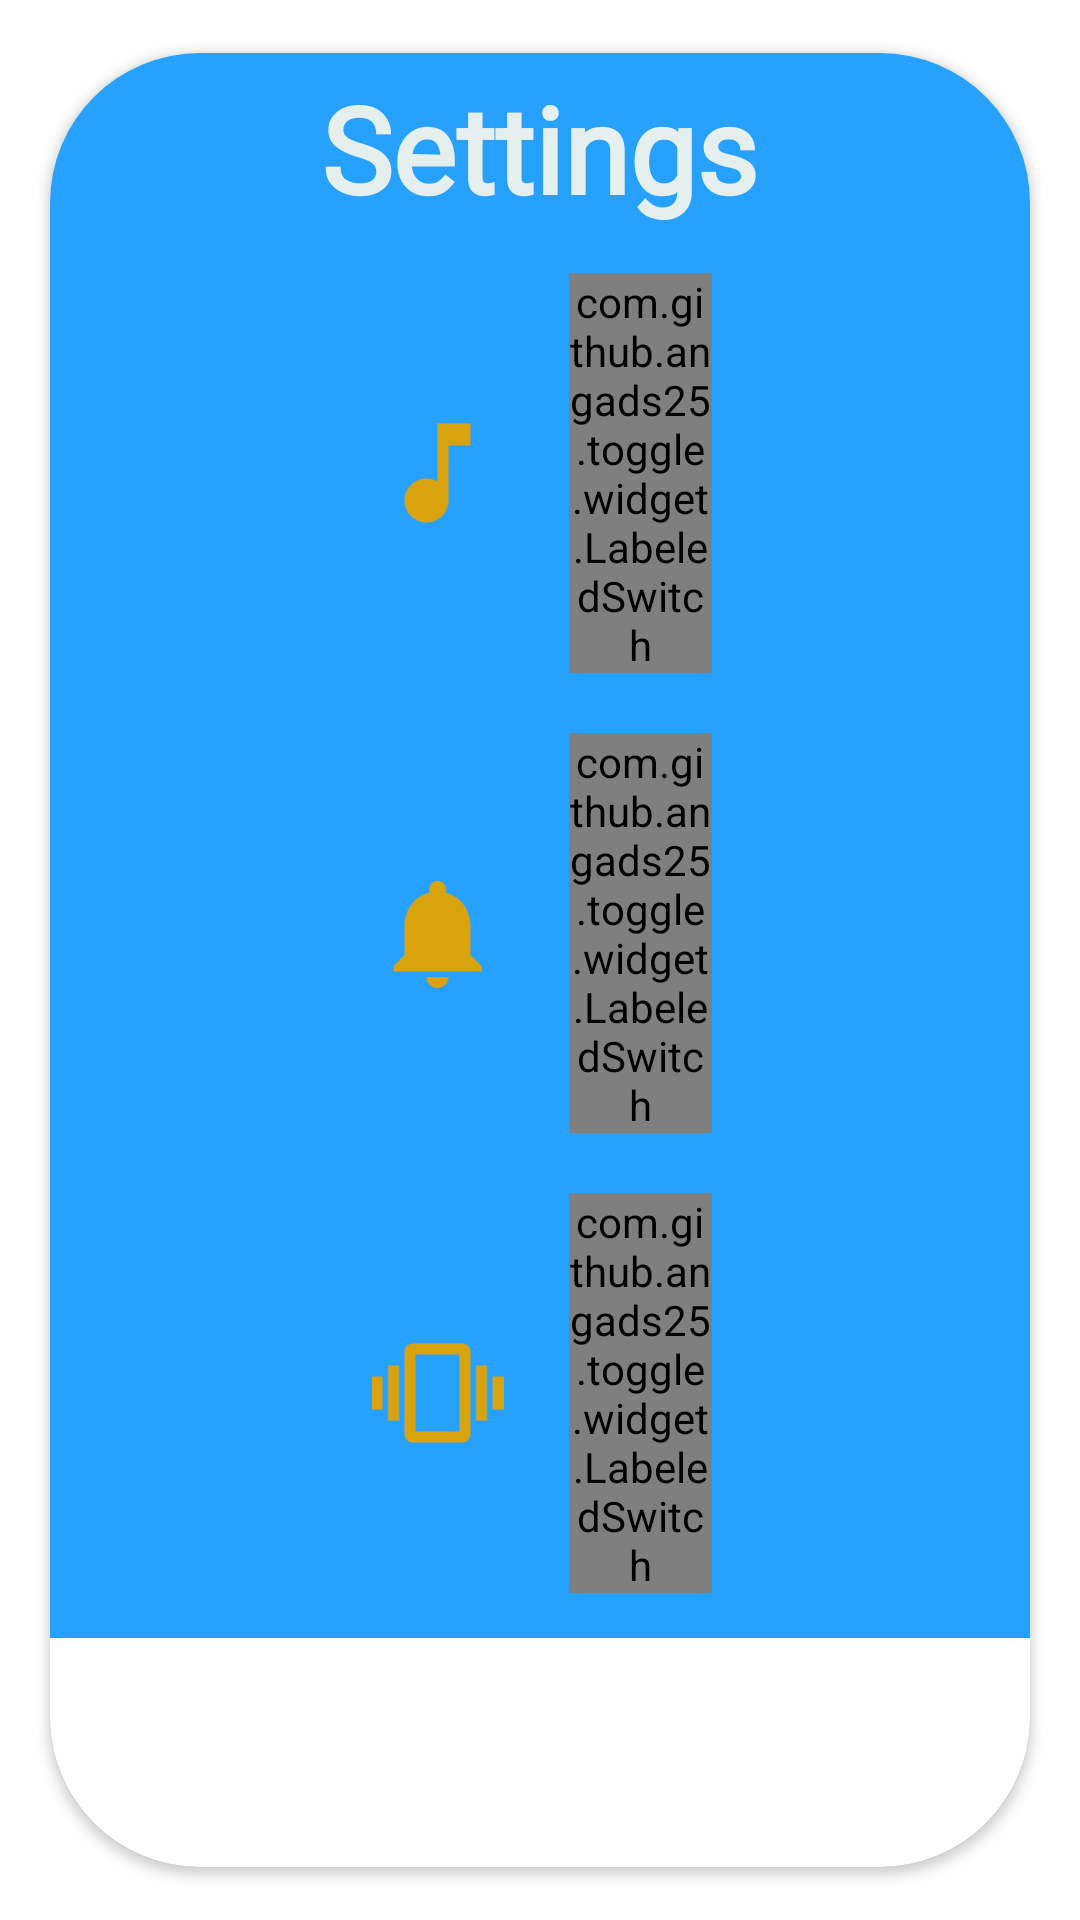

Screen size 1080px×1920px. Icon name, then its center in pixels as point (x, y):
sound: point (437, 473)
vibartion: point (438, 1393)
